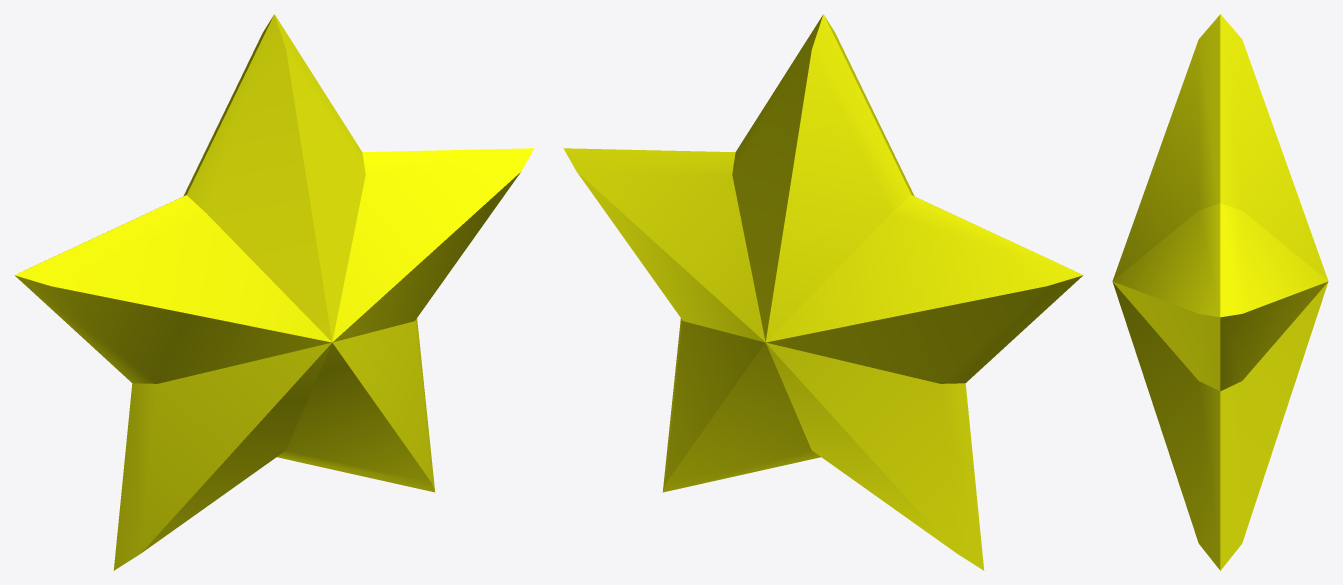
The model's file is star_yellow.glb.
The picture shows the model from 3 angles, left to right: view 1: azimuth 30°, elevation 25°; view 2: azimuth 150°, elevation 25°; view 3: azimuth 270°, elevation 25°; orthographic projection. The views are drawn at different scales.
Parts seen in each view (by area): view 1: star_yellow (1); view 2: star_yellow (1); view 3: star_yellow (1).
Boxes of the visible parts, x1,y1,x2,y2 form: star_yellow (1): [14, 14, 534, 570]; star_yellow (1): [563, 14, 1083, 570]; star_yellow (1): [1112, 14, 1328, 570].
Bounding box in the file's own units: 1.17 × 1.11 × 0.4489.
